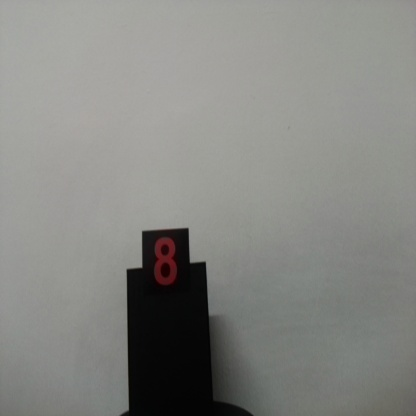id_8: (142, 230, 190, 304)
